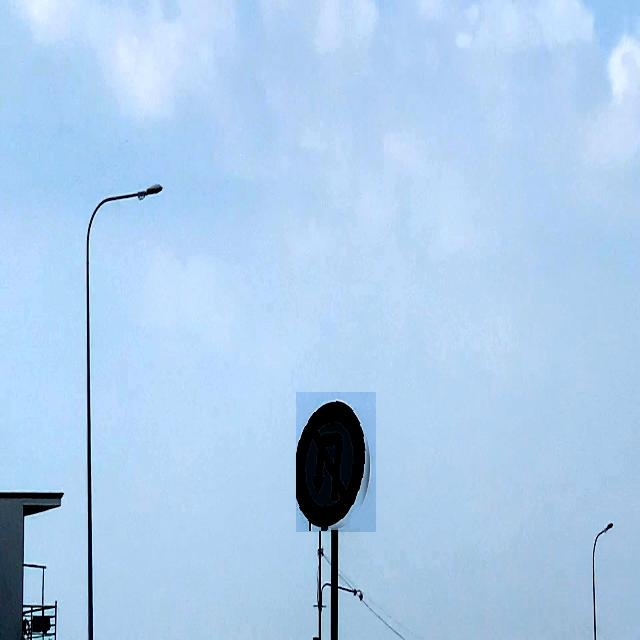bien_cam: (296, 392, 376, 532)
